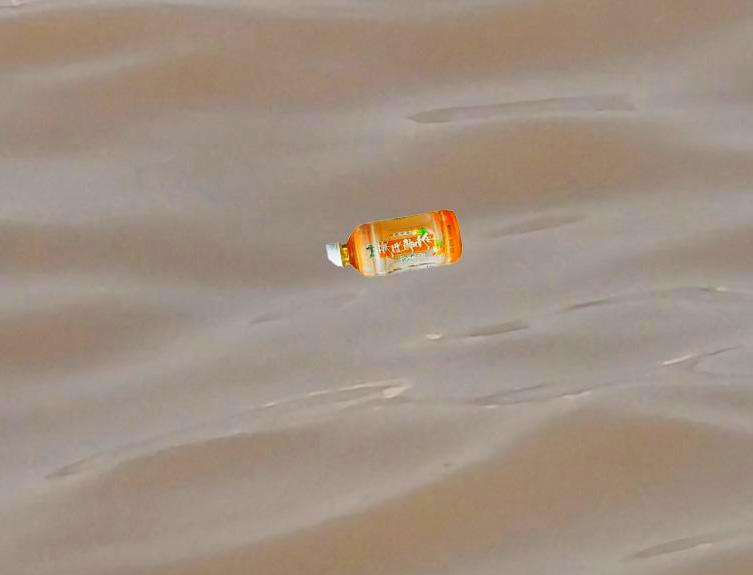Plastic: (322, 205, 460, 278)
